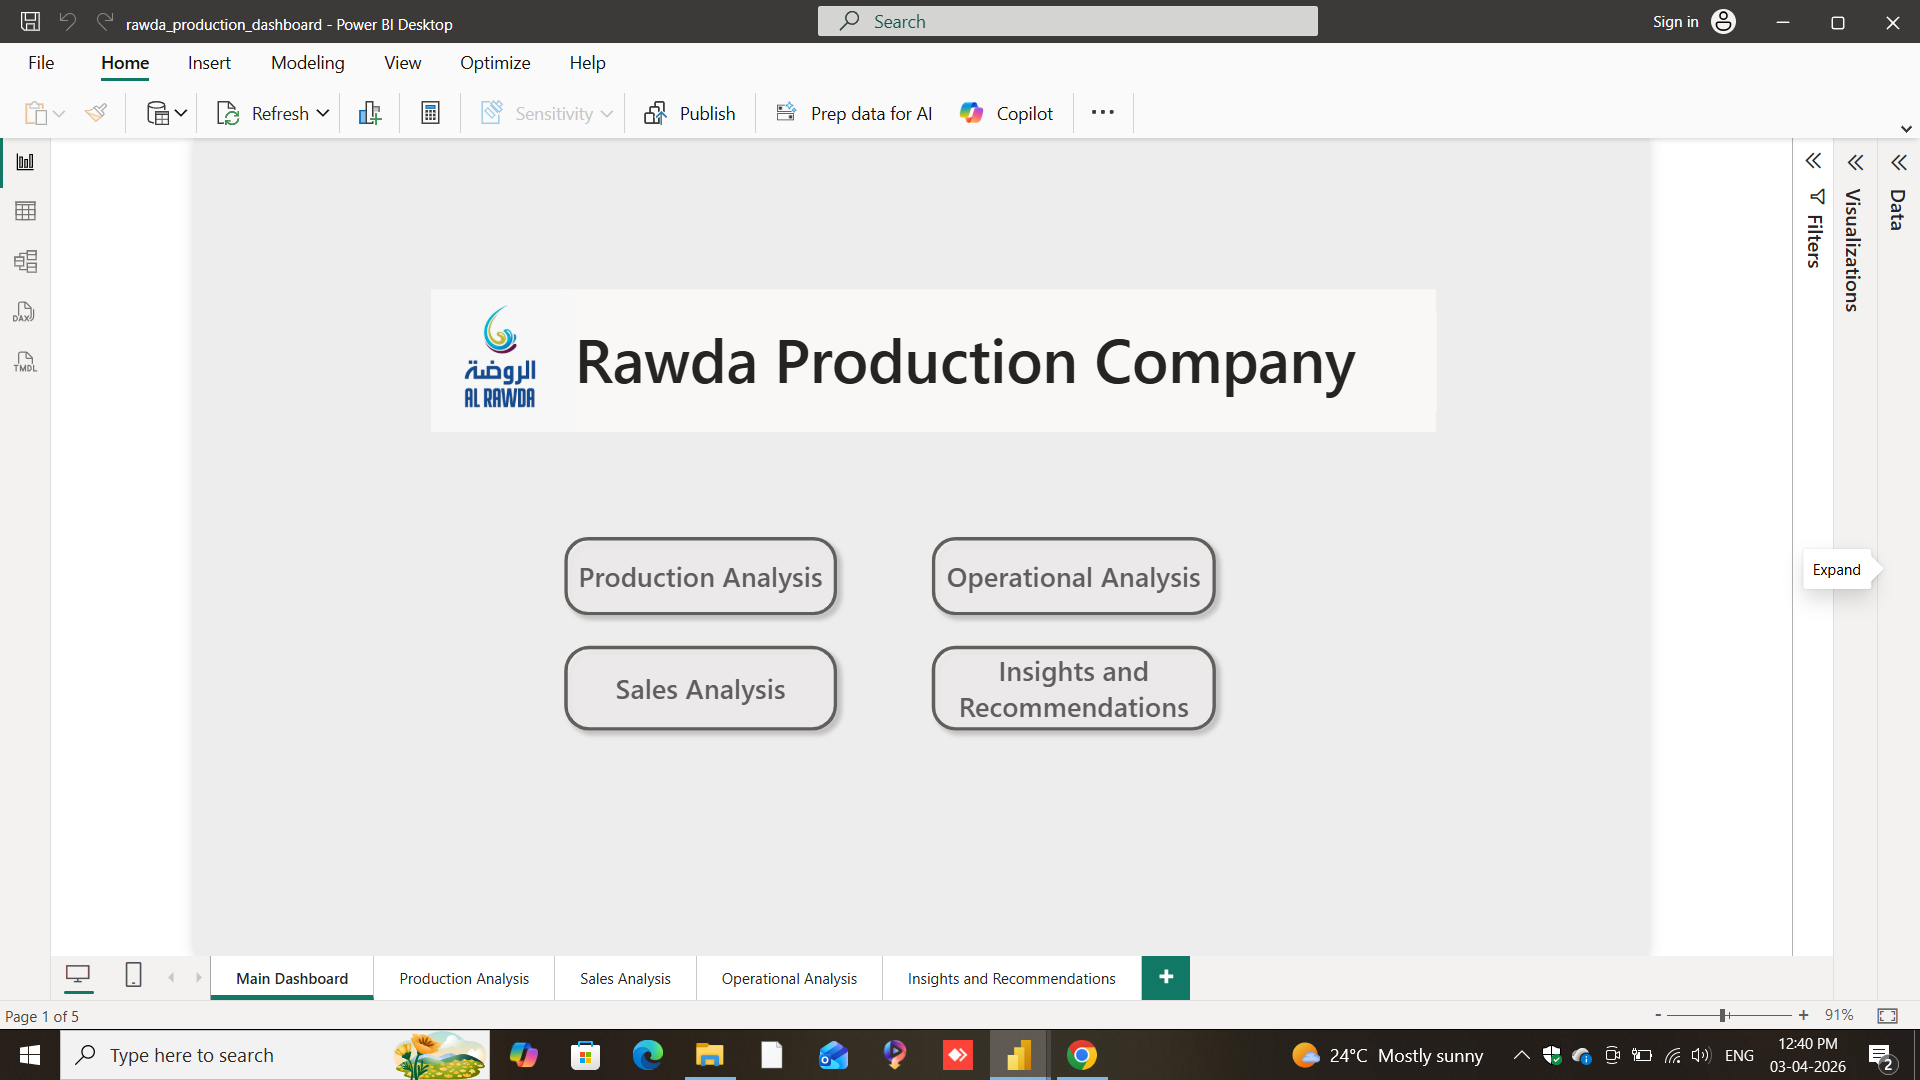

What the dashboard file says about the page in this screenshot:
{"tool":"powerbi","page":{"name":"Main Dashboard","canvas":[1280,720],"ordinal":0},"visuals":[{"type":"shape","box":[317.1,132.9,775.7,125.7],"z":0},{"type":"textbox","box":[330,152.9,762.9,87.1],"z":1000},{"type":"image","box":[142.9,132.9,257.1,125.7],"z":2000},{"type":"actionButton","box":[316.4,342.1,258,86.9],"z":3000},{"type":"actionButton","box":[316.4,437.6,258,92.7],"z":4000},{"type":"actionButton","box":[640,342.1,268,86.9],"z":5000},{"type":"actionButton","box":[640,437.6,268,92.7],"z":6000}]}

Visuals, with their boxes on the page's 1280x720 design canvas (x1, y1, x2, y2). These are canvas units, not pixel positions in the 1920x1080 screenshot, which may show the page scaled, cropped or inside an application window:
shape: BBox(317, 133, 1093, 259)
textbox: BBox(330, 153, 1093, 240)
image: BBox(143, 133, 400, 259)
actionButton: BBox(316, 342, 574, 429)
actionButton: BBox(316, 438, 574, 530)
actionButton: BBox(640, 342, 908, 429)
actionButton: BBox(640, 438, 908, 530)
